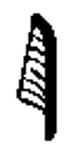Reed: (11, 8, 61, 142)
